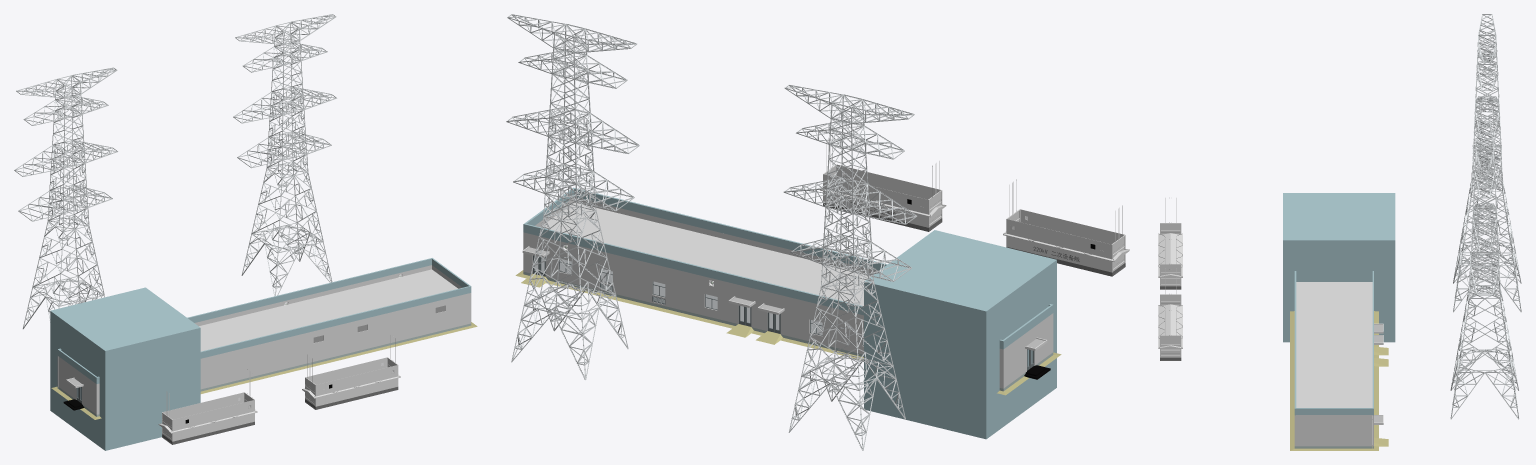
File: Demo.fbx
3 renders of one model, left to right at view 1: azimuth 30°, elevation 25°; view 2: azimuth 150°, elevation 25°; view 3: azimuth 270°, elevation 25°, orthographic. The views are drawn at different scales.
Parts seen in each view (by area): view 1: Cube, Obj3d66-1145095-17092-371.002, Obj3d66-1145095-17092-371, Obj3d66-1032738-9998-870, Obj3d66-1032738-9996-444, Obj3d66-1032738-10025-553, Obj3d66-1032738-6428-814, Obj3d66-1032738-6428-814.001, Obj3d66-1032738-9954-488, Obj3d66-1032738-9997-753, Obj3d66-1032738-10015-959, Obj3d66-1032738-6449-453 (+2 smaller); view 2: Cube, Obj3d66-1145095-17092-371, Obj3d66-1145095-17092-371.002, Obj3d66-1032738-9954-488, Obj3d66-1032738-9996-444, Obj3d66-1032738-10025-553, Obj3d66-1032738-6449-453.001, Obj3d66-1032738-6449-453, Obj3d66-1032738-10015-959, Obj3d66-1032738-9998-870, Obj3d66-1032738-6428-814.001, Obj3d66-1032738-9997-753 (+3 smaller); view 3: Cube, Obj3d66-1032738-9996-444, Obj3d66-1145095-17092-371.002, Obj3d66-1145095-17092-371, Obj3d66-1032738-10023-581, Obj3d66-1032738-9997-753, Obj3d66-1032738-10025-553, Obj3d66-1032738-6447-250, Obj3d66-1032738-6447-250.001.
Boxes of the visible parts, left/top/right/bottom form: Cube: left=50, top=287, right=200, bottom=450; Obj3d66-1145095-17092-371.002: left=233, top=14, right=337, bottom=296; Obj3d66-1145095-17092-371: left=14, top=67, right=118, bottom=329; Obj3d66-1032738-9998-870: left=96, top=293, right=471, bottom=414; Obj3d66-1032738-9996-444: left=199, top=269, right=457, bottom=351; Obj3d66-1032738-10025-553: left=57, top=258, right=471, bottom=383; Obj3d66-1032738-6428-814: left=315, top=365, right=398, bottom=406; Obj3d66-1032738-6428-814.001: left=172, top=400, right=254, bottom=441; Obj3d66-1032738-9954-488: left=57, top=265, right=431, bottom=386; Obj3d66-1032738-9997-753: left=51, top=322, right=477, bottom=419; Obj3d66-1032738-10015-959: left=58, top=357, right=95, bottom=413; Obj3d66-1032738-6449-453: left=305, top=357, right=387, bottom=398; Cube: left=864, top=230, right=1056, bottom=439; Obj3d66-1145095-17092-371: left=783, top=84, right=917, bottom=450; Obj3d66-1145095-17092-371.002: left=506, top=14, right=639, bottom=380; Obj3d66-1032738-9954-488: left=523, top=232, right=1004, bottom=388; Obj3d66-1032738-9996-444: left=540, top=202, right=872, bottom=305; Obj3d66-1032738-10025-553: left=523, top=187, right=1053, bottom=349; Obj3d66-1032738-6449-453.001: left=1006, top=219, right=1112, bottom=272; Obj3d66-1032738-6449-453: left=823, top=174, right=928, bottom=227; Obj3d66-1032738-10015-959: left=1004, top=314, right=1052, bottom=387; Obj3d66-1032738-9998-870: left=575, top=197, right=1053, bottom=352; Obj3d66-1032738-6428-814.001: left=1020, top=209, right=1124, bottom=244; Obj3d66-1032738-9997-753: left=515, top=270, right=1061, bottom=395; Cube: left=1283, top=193, right=1395, bottom=342; Obj3d66-1032738-9996-444: left=1296, top=282, right=1372, bottom=419; Obj3d66-1145095-17092-371.002: left=1450, top=121, right=1519, bottom=419; Obj3d66-1145095-17092-371: left=1453, top=14, right=1521, bottom=312; Obj3d66-1032738-10023-581: left=1296, top=415, right=1372, bottom=446; Obj3d66-1032738-9997-753: left=1290, top=311, right=1378, bottom=450; Obj3d66-1032738-10025-553: left=1294, top=271, right=1373, bottom=415; Obj3d66-1032738-6447-250: left=1158, top=304, right=1182, bottom=348; Obj3d66-1032738-6447-250.001: left=1158, top=233, right=1182, bottom=277.
Bounding box in the file's own units: 815 × 567 × 647.
